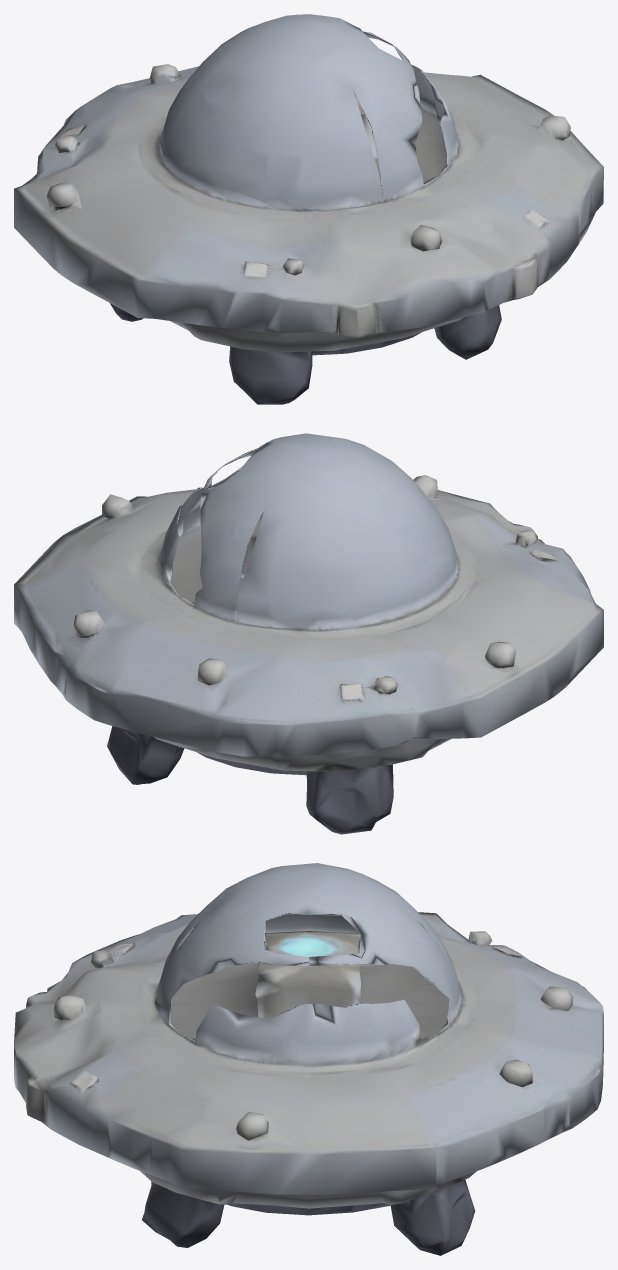
File: flying-saucer.glb
3 renders of one model, top to bottom at view 1: azimuth 30°, elevation 25°; view 2: azimuth 150°, elevation 25°; view 3: azimuth 270°, elevation 25°, orthographic. The views are drawn at different scales.
Parts seen in each view (by area): view 1: tripo_node_dac09f38-d4ca-49b6-b727-6d18fbc14d98; view 2: tripo_node_dac09f38-d4ca-49b6-b727-6d18fbc14d98; view 3: tripo_node_dac09f38-d4ca-49b6-b727-6d18fbc14d98.
Boxes of the visible parts, bbox=[...] form: tripo_node_dac09f38-d4ca-49b6-b727-6d18fbc14d98: bbox=[14, 14, 603, 404]; tripo_node_dac09f38-d4ca-49b6-b727-6d18fbc14d98: bbox=[14, 433, 603, 834]; tripo_node_dac09f38-d4ca-49b6-b727-6d18fbc14d98: bbox=[14, 863, 603, 1255].
Size of the model in its own units: 0.9967 by 0.5991 by 1.
Materials: 1 (1 with a texture image).
